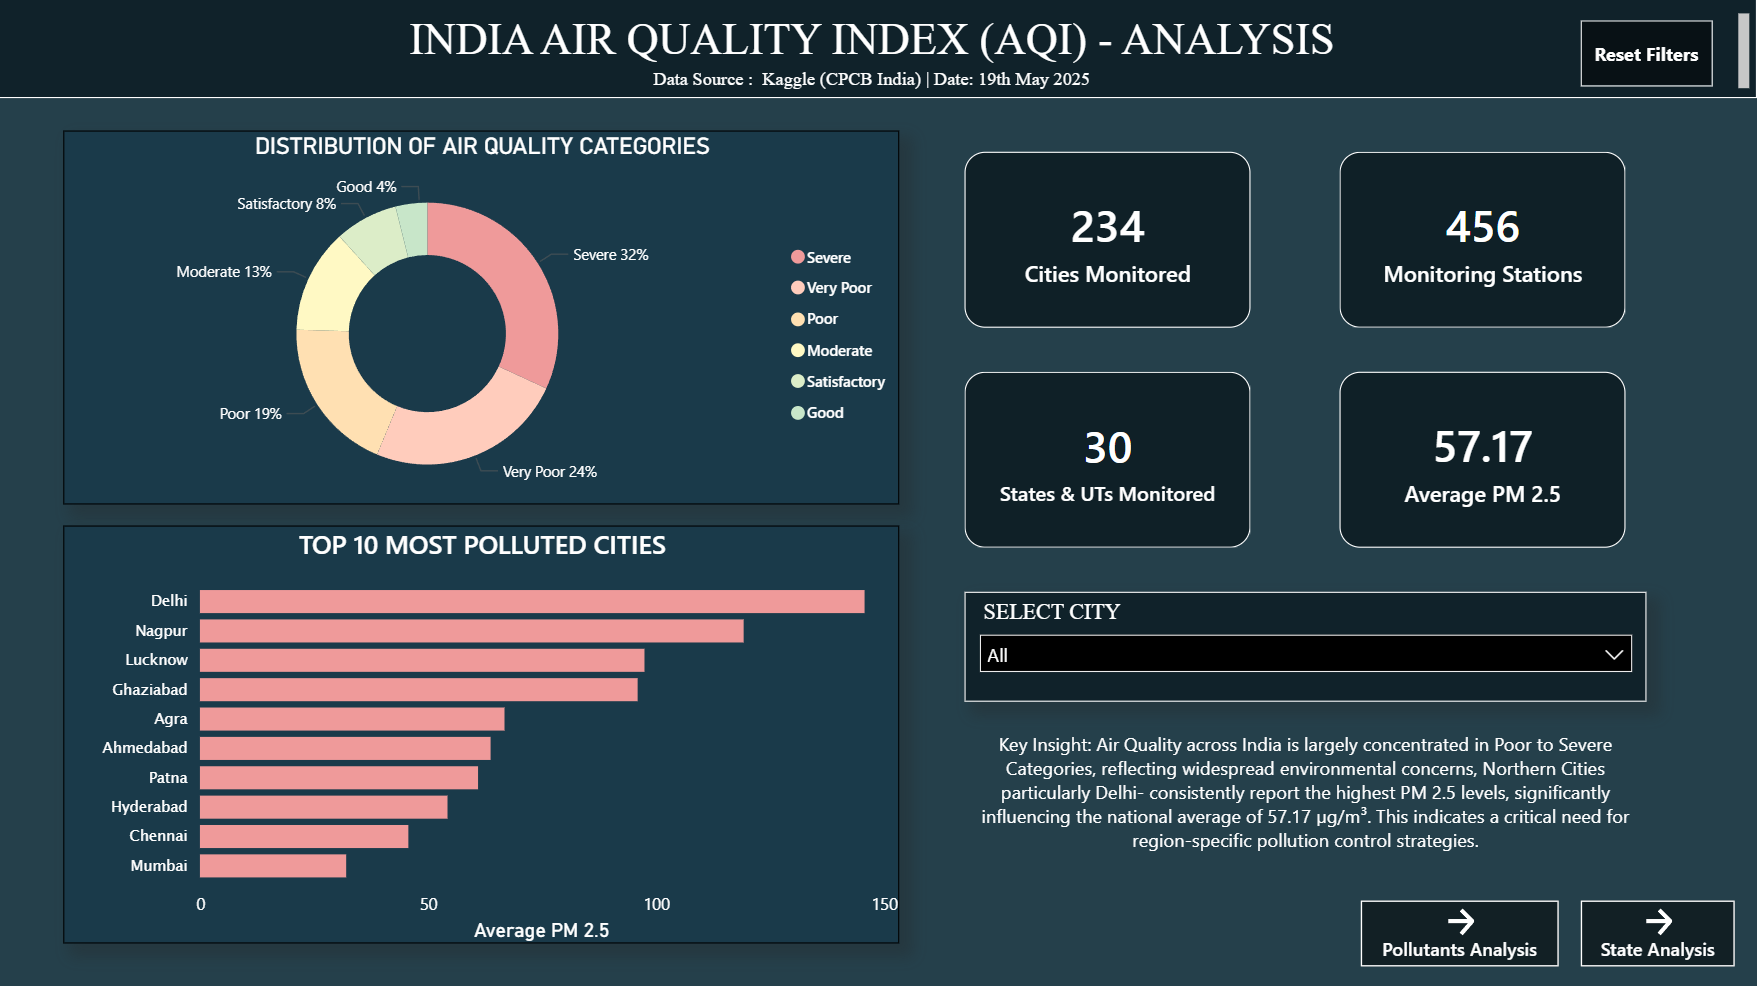

The page's visual inventory and layout, read from the dashboard file:
{"tool":"powerbi","page":{"name":"OVERVIEW","canvas":[1280,720],"ordinal":0},"visuals":[{"type":"card","fields":{"Values":["Count(aqi2.city)"]},"box":[704,112,208,128],"z":0},{"type":"donutChart","title":"DISTRIBUTION OF AIR QUALITY CATEGORIES","fields":{"Y":["Avg(aqi2.pollutant_avg)"],"Category":["aqi2.AQI CATEGORY"]},"box":[48,96,608,272],"z":1000},{"type":"card","fields":{"Values":["Count(aqi2.station)"]},"box":[976,112,208,128],"z":2000},{"type":"clusteredBarChart","title":"TOP 10 MOST POLLUTED CITIES","fields":{"Category":["aqi2.city"],"Y":["Avg(aqi2.pollutant_avg)"]},"box":[48,384,608,304],"z":3000},{"type":"card","fields":{"Values":["Avg(aqi2.pollutant_avg)"]},"box":[976,272,208,128],"z":4000},{"type":"textbox","box":[0,0,1280,72.5],"z":5000},{"type":"card","title":"States Monitored","fields":{"Values":["Count(aqi2.state)"]},"box":[704,272,208,128],"z":6000},{"type":"textbox","box":[704,528,496,112],"z":7000},{"type":"actionButton","box":[1152,656,112,48],"z":8000},{"type":"actionButton","box":[992,656,144,48],"z":9000},{"type":"actionButton","box":[1152,16,96,48],"z":10000},{"type":"slicer","fields":{"Values":["Zonal Analysis.ZONES","Zonal Analysis.STATES AND UT","aqi2.city"]},"box":[704,432,496,80],"z":11000}]}

Visuals, with their boxes in screenshot pixels (x1, y1, x2, y2), scaled from the page's 1280x720 canvas onto the 1757x986 screenshot:
card - Count(aqi2.city): {"left": 966, "top": 153, "right": 1252, "bottom": 329}
"DISTRIBUTION OF AIR QUALITY CATEGORIES" donutChart: {"left": 66, "top": 131, "right": 900, "bottom": 504}
card - Count(aqi2.station): {"left": 1340, "top": 153, "right": 1625, "bottom": 329}
"TOP 10 MOST POLLUTED CITIES" clusteredBarChart: {"left": 66, "top": 526, "right": 900, "bottom": 942}
card - Avg(aqi2.pollutant_avg): {"left": 1340, "top": 372, "right": 1625, "bottom": 548}
textbox: {"left": 0, "top": 0, "right": 1756, "bottom": 99}
"States Monitored" card: {"left": 966, "top": 372, "right": 1252, "bottom": 548}
textbox: {"left": 966, "top": 723, "right": 1647, "bottom": 876}
actionButton: {"left": 1581, "top": 898, "right": 1735, "bottom": 964}
actionButton: {"left": 1362, "top": 898, "right": 1559, "bottom": 964}
actionButton: {"left": 1581, "top": 22, "right": 1713, "bottom": 88}
slicer - Zonal Analysis.ZONES x Zonal Analysis.STATES AND UT: {"left": 966, "top": 592, "right": 1647, "bottom": 701}
